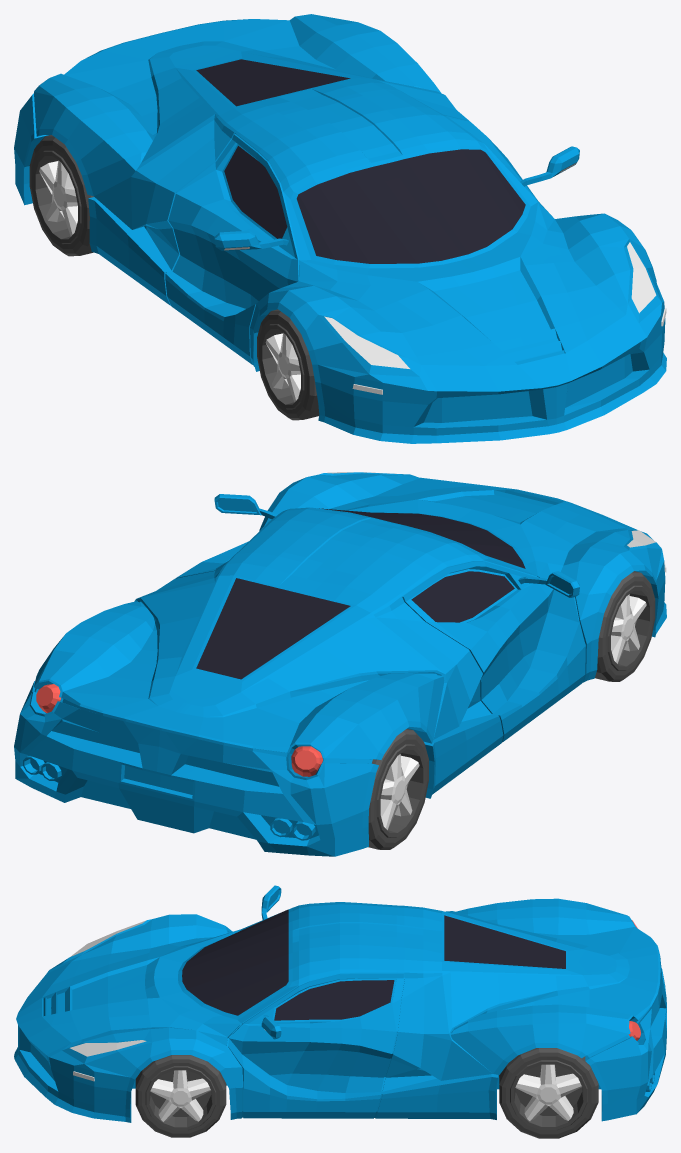
The model's file is 1. SportCarMiddle.fbx.
3 views of the same model, one above another, from view 1: azimuth 30°, elevation 25°; view 2: azimuth 150°, elevation 25°; view 3: azimuth 270°, elevation 25° (orthographic). The views are drawn at different scales.
Visible parts, largest first — view 1: SportCarMiddle; view 2: SportCarMiddle; view 3: SportCarMiddle.
Part boxes in pixels (x1,y1,x2,y2): SportCarMiddle: (14,14,666,443); SportCarMiddle: (14,472,666,856); SportCarMiddle: (14,885,666,1138).
Size of the model in its own units: 1.29 by 0.5976 by 2.45.
